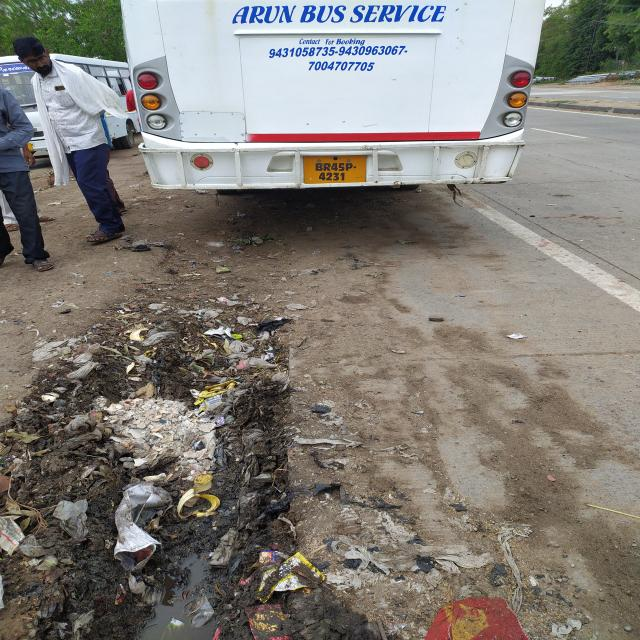Bus: (114, 0, 561, 208), (0, 42, 147, 158)
